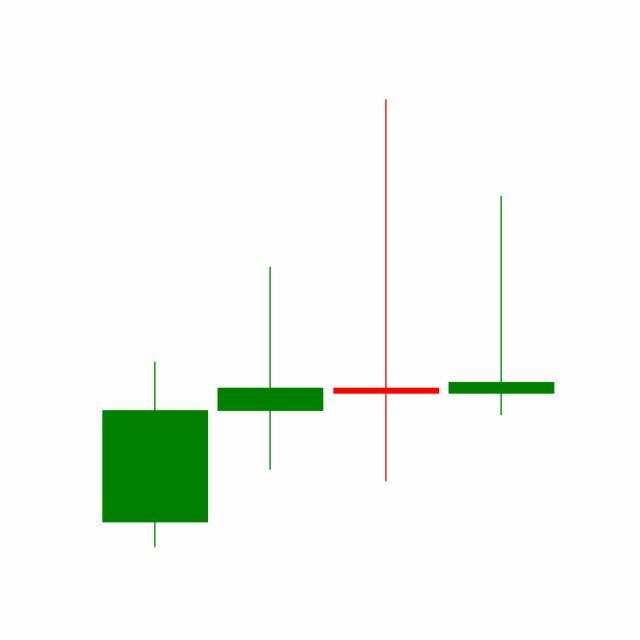Spinning Top: (444, 194, 560, 419)
